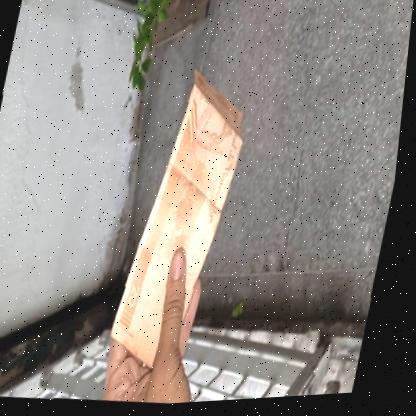twenty-back-vef: (109, 64, 259, 378)
